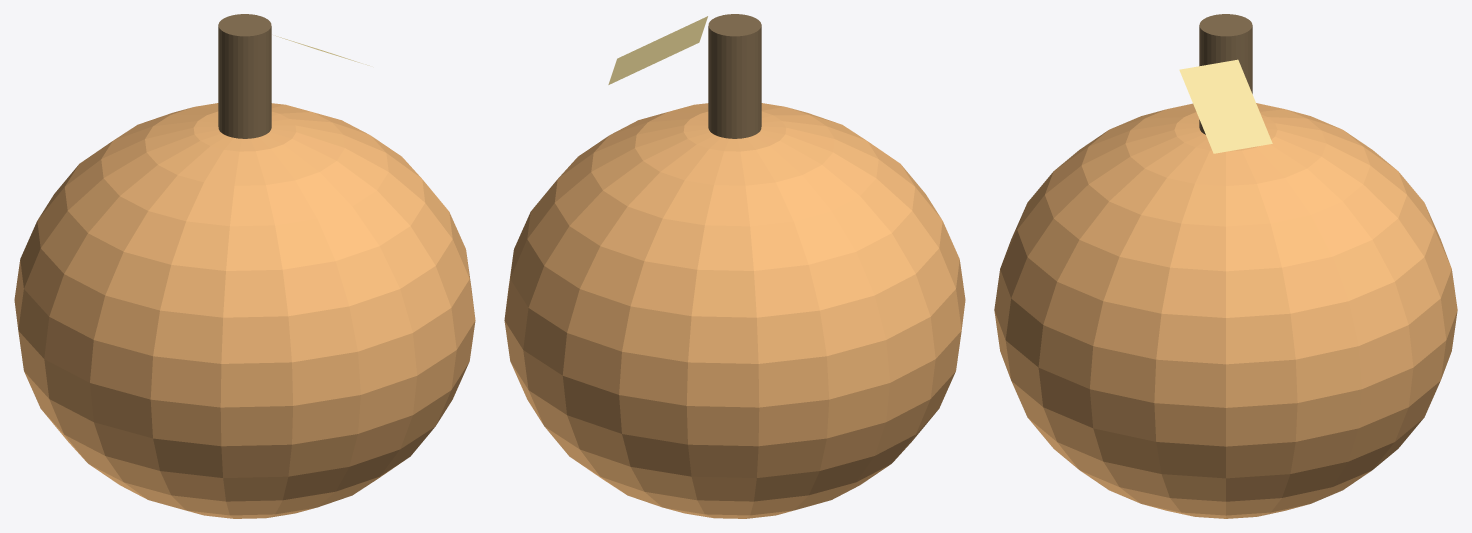
File: pickup.orange.v2.glb
3 views of the same model, side by side, from view 1: azimuth 30°, elevation 25°; view 2: azimuth 150°, elevation 25°; view 3: azimuth 270°, elevation 25° (orthographic).
Visible parts, largest first — view 1: pickup.orange.v2_body, pickup.orange.v2_stem; view 2: pickup.orange.v2_body, pickup.orange.v2_stem, Plane; view 3: pickup.orange.v2_body, Plane, pickup.orange.v2_stem.
Part boxes in pixels (x1,y1,x2,y2): pickup.orange.v2_body: [14, 103, 475, 518]; pickup.orange.v2_stem: [218, 14, 271, 138]; pickup.orange.v2_body: [504, 103, 965, 518]; pickup.orange.v2_stem: [708, 14, 761, 138]; Plane: [608, 16, 707, 84]; pickup.orange.v2_body: [994, 103, 1457, 518]; Plane: [1179, 59, 1272, 153]; pickup.orange.v2_stem: [1199, 14, 1252, 134].
Bounding box in the file's own units: 0.5235 × 0.5853 × 0.5235.
